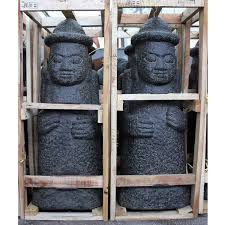Stone Statue: (114, 13, 201, 214), (23, 11, 108, 216)
